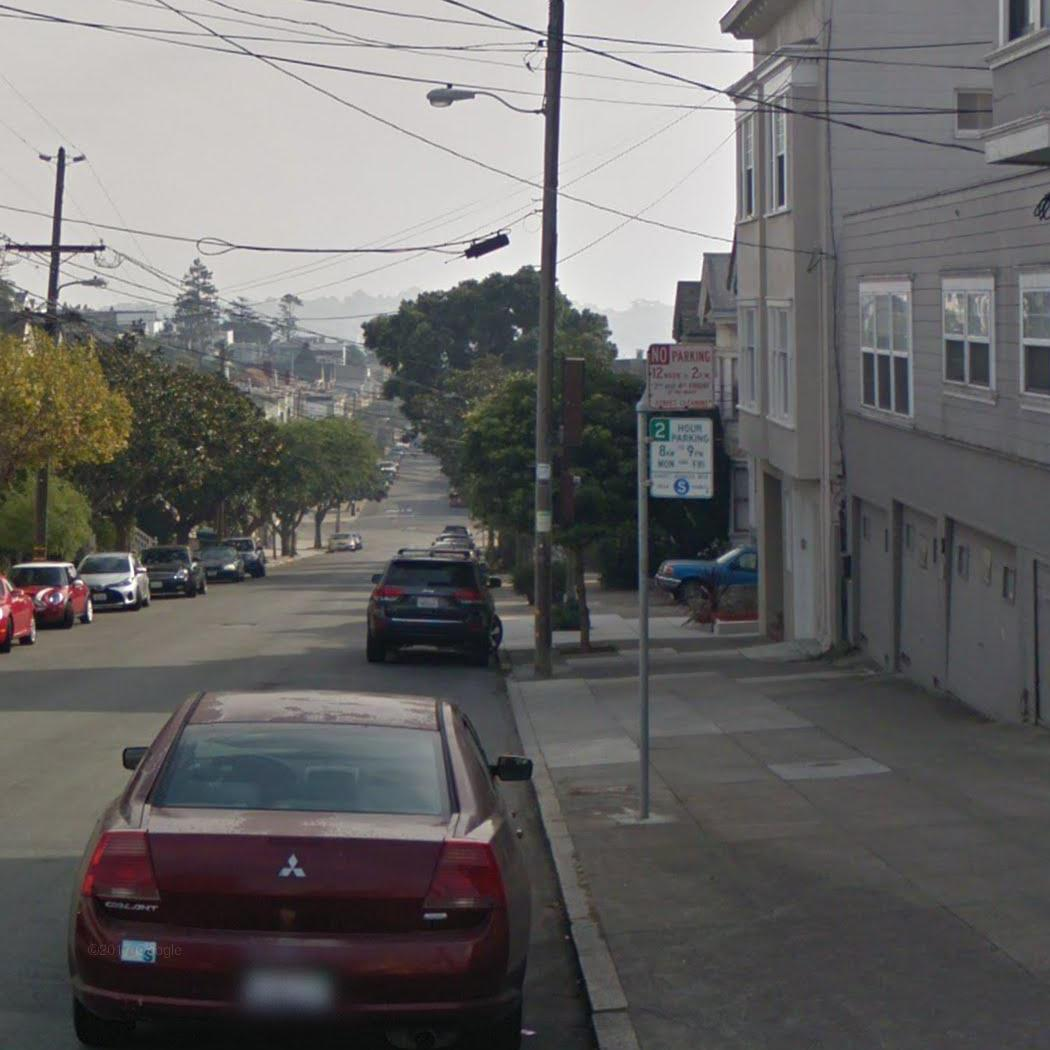2 Hour Parking: (642, 408, 719, 501)
No Parking: (638, 335, 726, 416)
